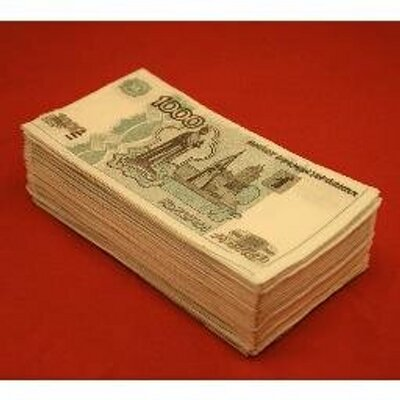cash: (22, 68, 367, 275)
